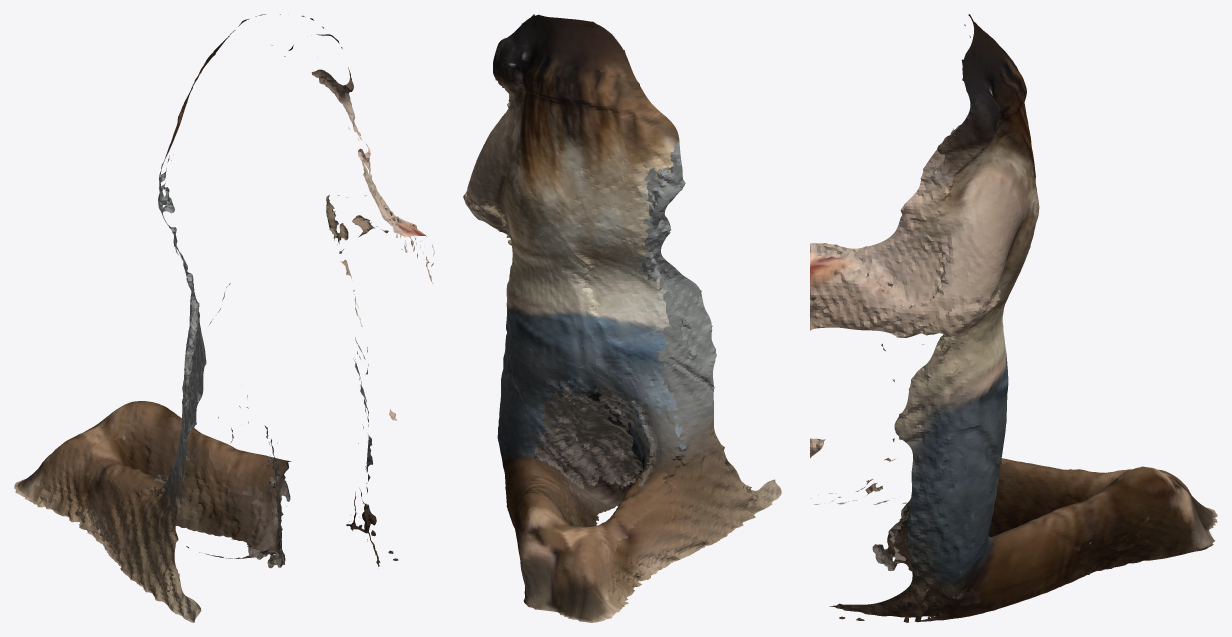
3 views of the same model, side by side, from view 1: azimuth 30°, elevation 25°; view 2: azimuth 150°, elevation 25°; view 3: azimuth 270°, elevation 25° (orthographic). The views are drawn at different scales.
Bounding box in the file's own units: 0.5639 × 1.05 × 0.7009.
1 material, 1 textured.
